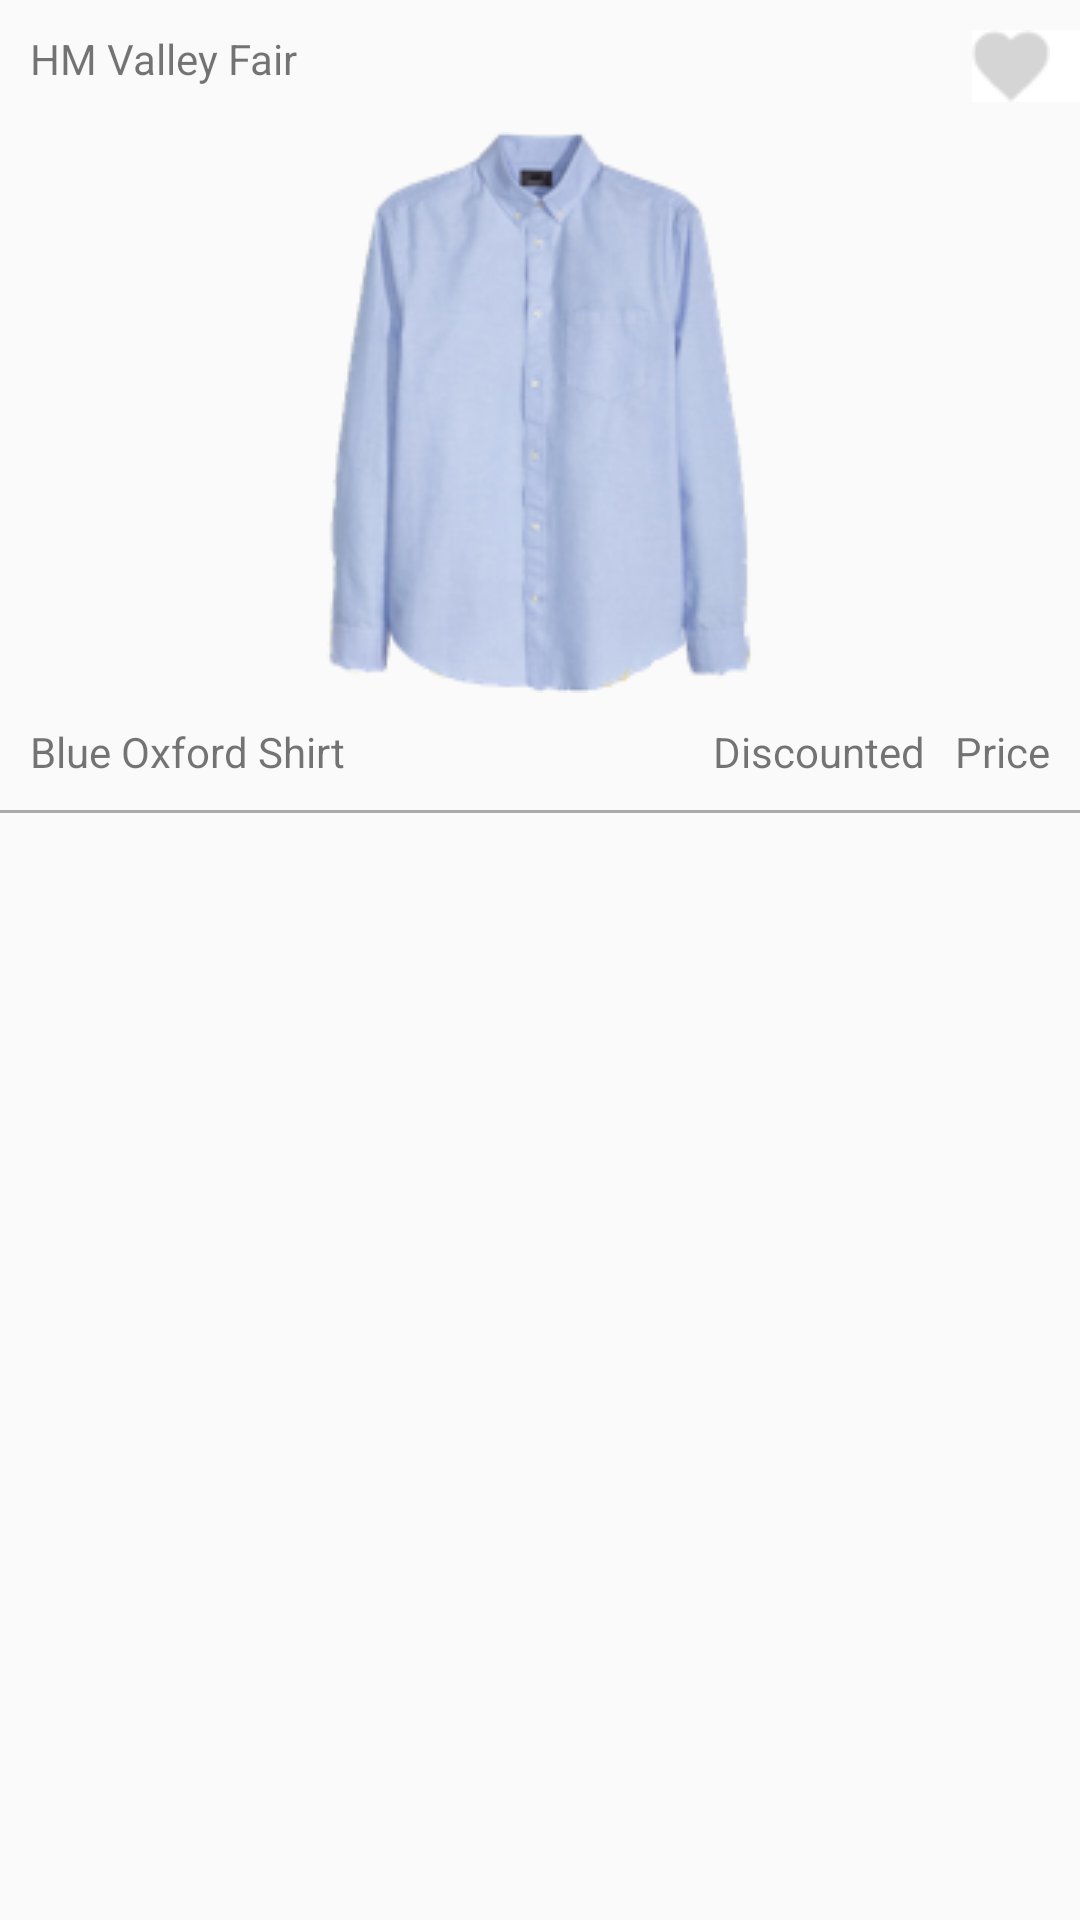

Named icons in this screenshot (1080 x 1920) and their centers, point (x, y):
favorite unfilled: point (1011, 66)
